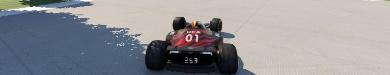Car: (144, 16, 238, 73)
